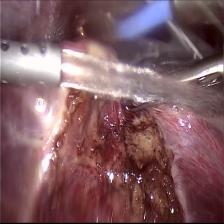Bipolar: (72, 0, 185, 45)
Grasper: (126, 57, 223, 119)
Irrigator: (0, 37, 67, 97)
